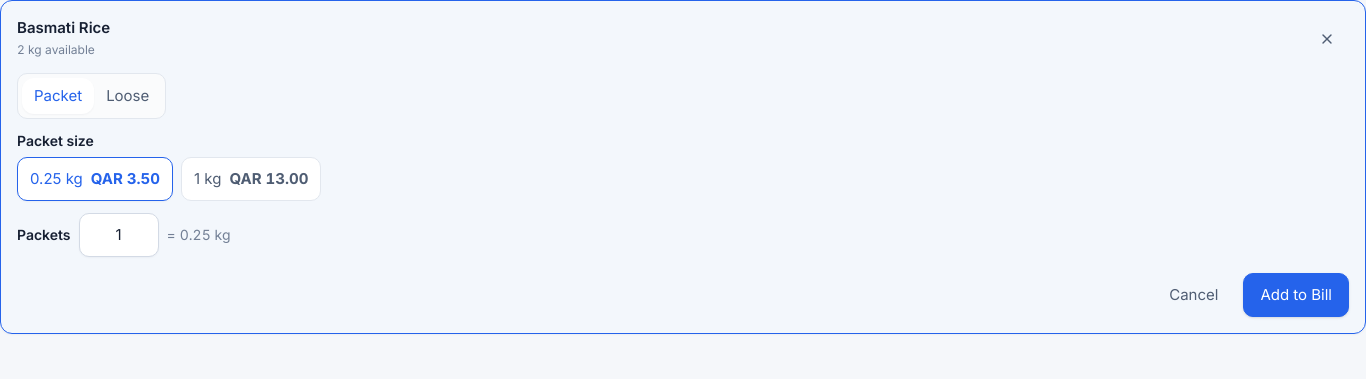
PricingPanel › rejects a fractional packet count
Replace the text in the field labelled "Packets" with "1.5". click: (119, 235)
box: [79,213,159,257]
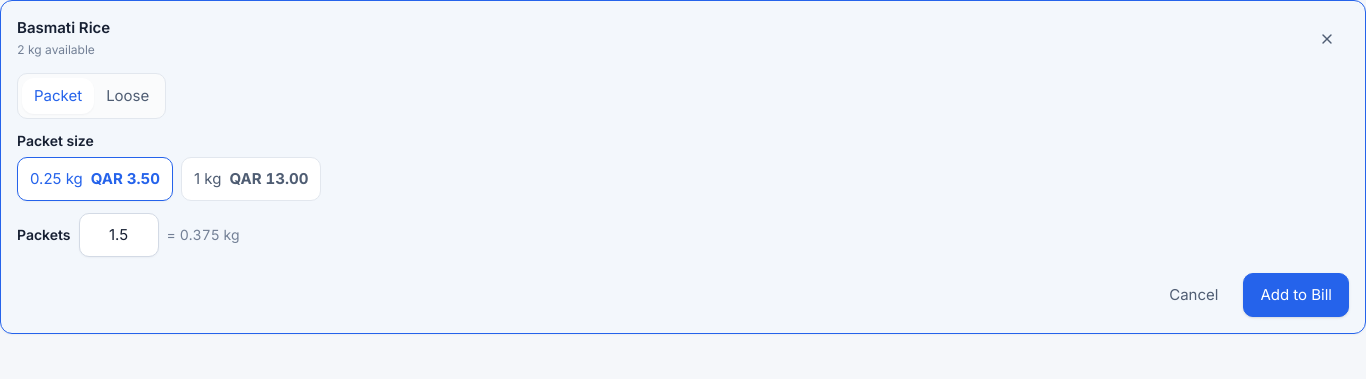
Click the button "Add to Bill". click: (1296, 295)
box: [1243,273,1349,317]
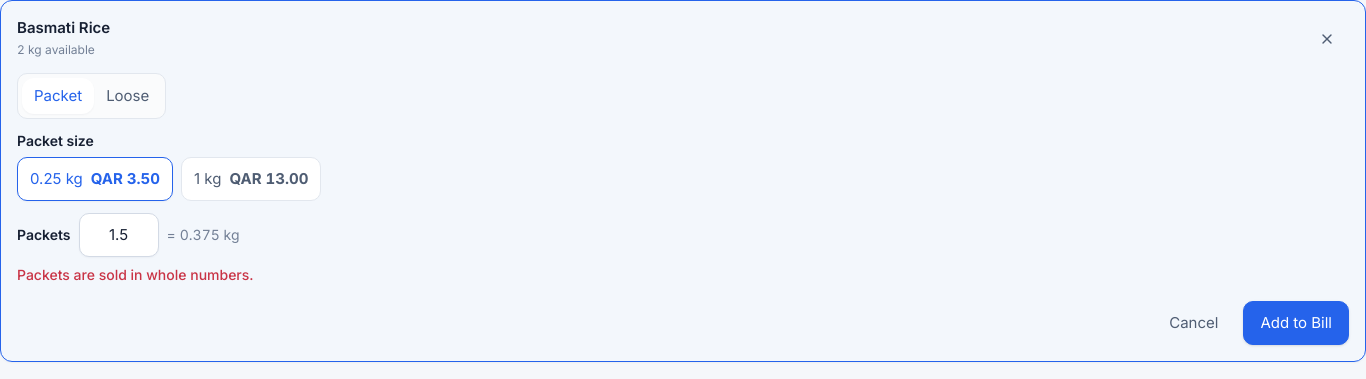
expect the message shows "whole numbers": met, box [17,266,254,283]
